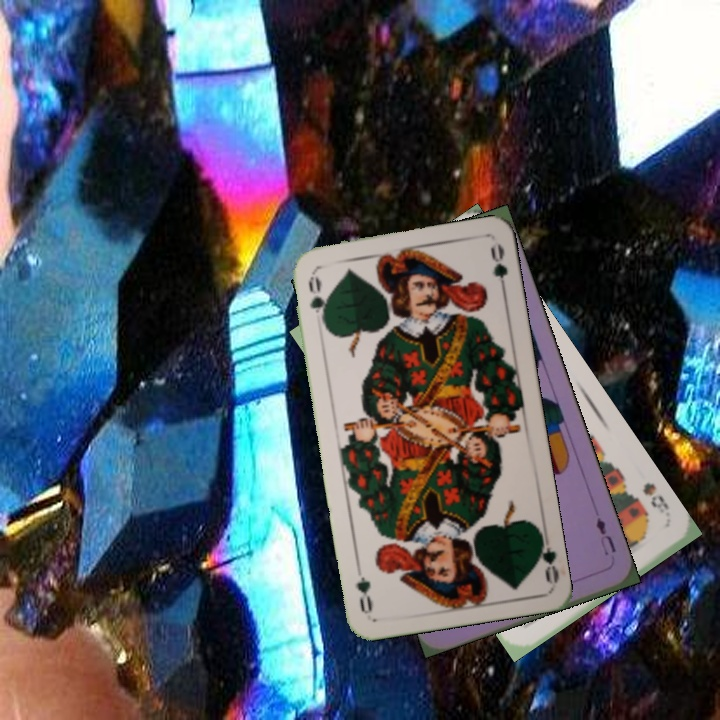EU: (592, 513, 619, 559)
GO: (532, 526, 562, 586), (304, 269, 329, 328)
S8: (638, 478, 672, 516)
